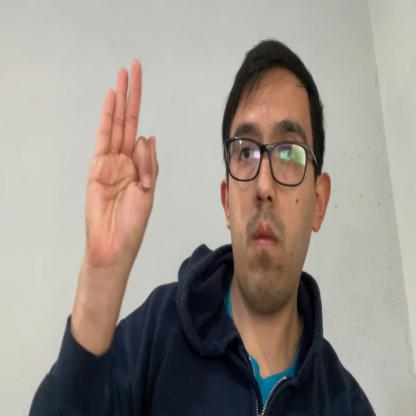F: (86, 59, 160, 273)
